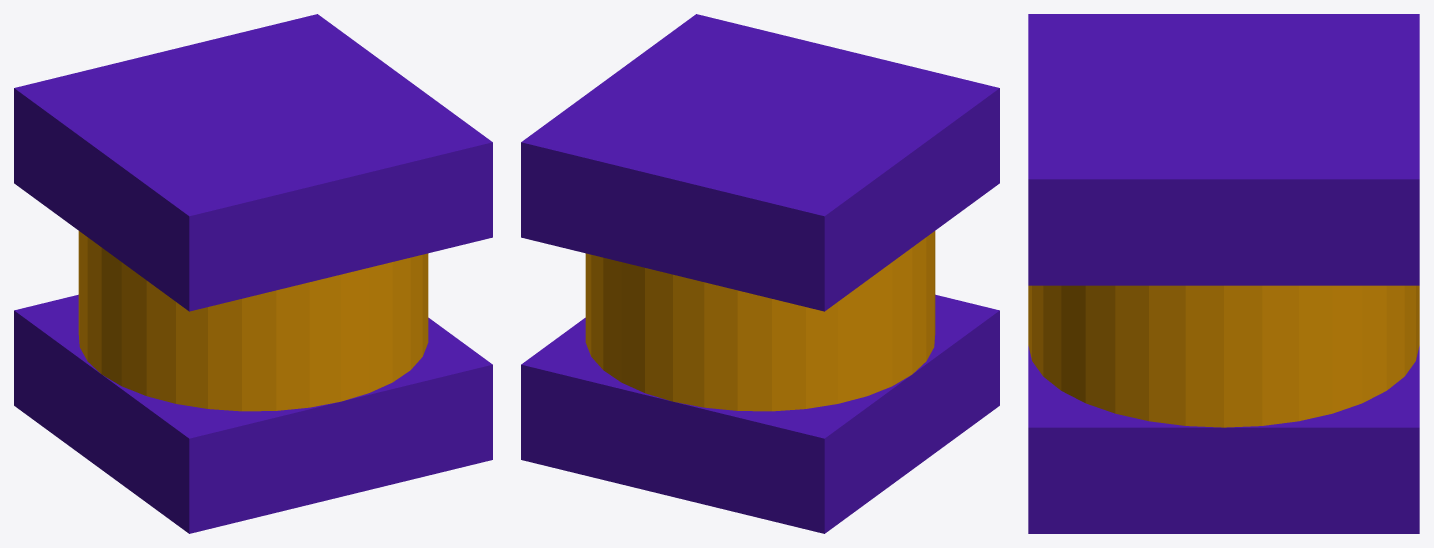
File: turret.glb
3 renders of one model, left to right at view 1: azimuth 30°, elevation 25°; view 2: azimuth 150°, elevation 25°; view 3: azimuth 270°, elevation 25°, orthographic. The views are drawn at different scales.
Parts seen in each view (by area): view 1: Cube.001, Cube, Cylinder; view 2: Cube.001, Cube, Cylinder; view 3: Cube.001, Cube, Cylinder.
Part boxes in pixels (box(x1,y1,x2,y2)): Cube.001: box(14, 14, 492, 311); Cube: box(14, 294, 492, 533); Cylinder: box(78, 231, 428, 411); Cube.001: box(521, 14, 999, 311); Cube: box(521, 294, 999, 533); Cylinder: box(585, 231, 935, 411); Cube.001: box(1028, 14, 1419, 285); Cube: box(1028, 346, 1419, 533); Cylinder: box(1028, 285, 1419, 427).
Bounding box in the file's own units: 1 × 1 × 1.
